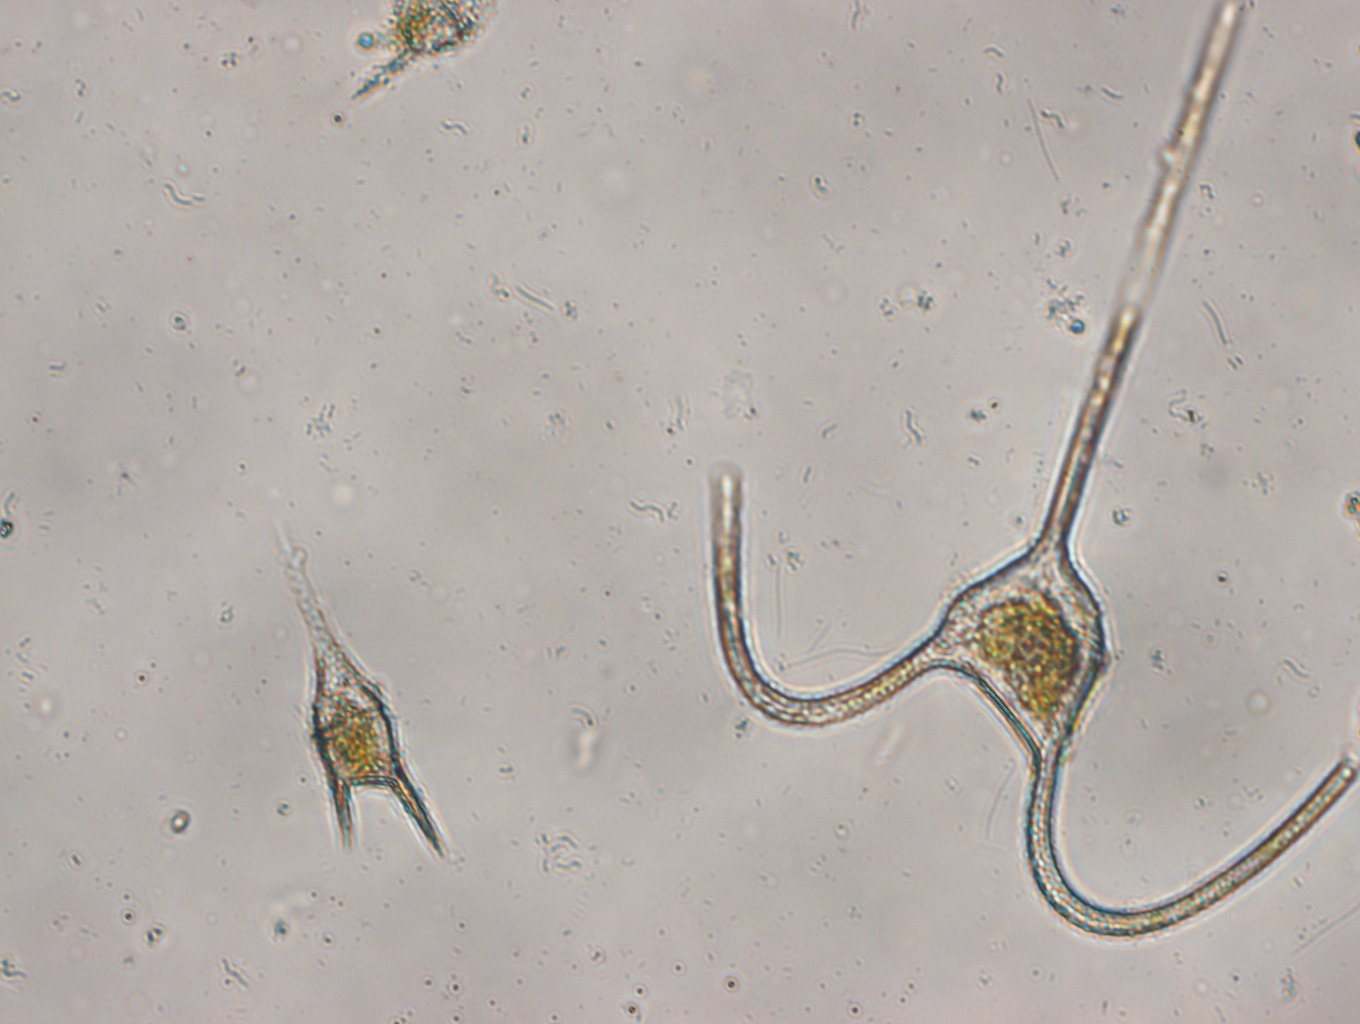ceratium furca: (269, 520, 450, 868)
ceratium trichoceros: (692, 5, 1359, 943)
